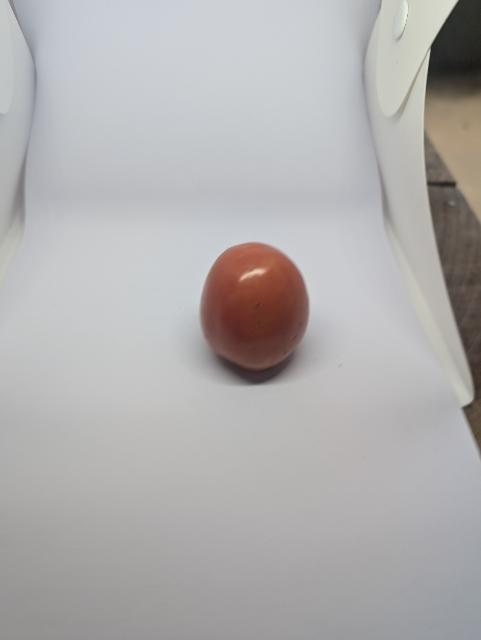red: (142, 218, 361, 419)
